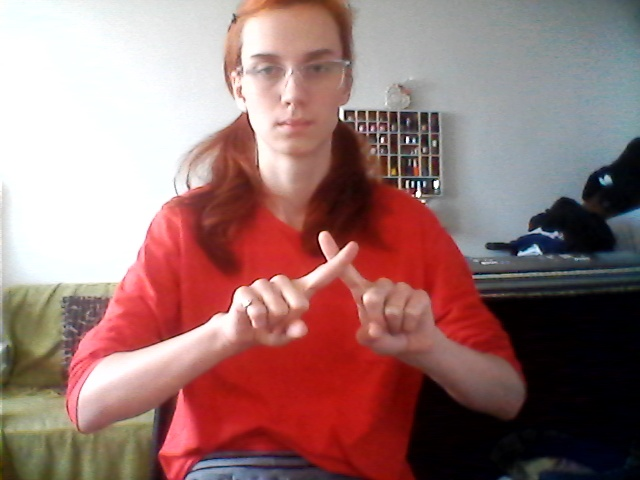x: (216, 217, 440, 360)
